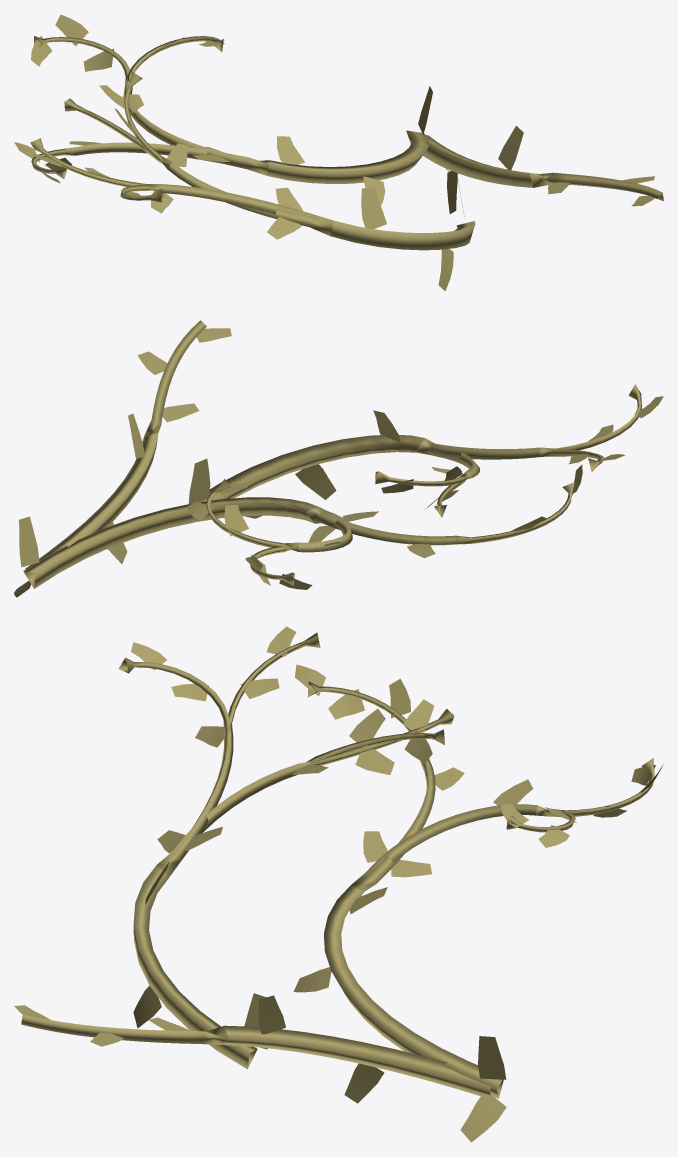
The model's file is cipo 1.fbx.
3 views of the same model, one above another, from view 1: azimuth 30°, elevation 25°; view 2: azimuth 150°, elevation 25°; view 3: azimuth 270°, elevation 25° (orthographic). The views are drawn at different scales.
Parts seen in each view (by area): view 1: polySurface12, polySurface18, polySurface13, polySurface39, polySurface29, polySurface33, polySurface34, polySurface38, polySurface150, polySurface58, polySurface77, polySurface60 (+10 smaller); view 2: polySurface12, polySurface18, polySurface13, polySurface33, polySurface38, polySurface29, polySurface39, polySurface75, polySurface123, polySurface137, polySurface77, polySurface128 (+7 smaller); view 3: polySurface13, polySurface12, polySurface18, polySurface29, polySurface39, polySurface33, polySurface38, polySurface34, polySurface122, polySurface57, polySurface123, polySurface60 (+5 smaller).
Part boxes in pixels (box(x1,y1,x2,y2)): polySurface12: box(267, 130, 429, 183); polySurface18: box(330, 220, 475, 250); polySurface13: box(423, 135, 533, 187); polySurface39: box(123, 81, 269, 175); polySurface29: box(530, 172, 663, 200); polySurface33: box(162, 184, 332, 220); polySurface34: box(167, 162, 333, 235); polySurface38: box(76, 142, 265, 163); polySurface150: box(361, 187, 386, 228); polySurface58: box(30, 138, 160, 186); polySurface77: box(125, 36, 223, 86); polySurface60: box(124, 71, 172, 168); polySurface12: box(23, 497, 318, 588); polySurface18: box(199, 435, 427, 502); polySurface13: box(25, 432, 158, 569); polySurface33: box(416, 438, 540, 459); polySurface38: box(306, 507, 457, 545); polySurface29: box(144, 320, 206, 436); polySurface39: box(298, 507, 352, 552); polySurface75: box(455, 482, 574, 544); polySurface123: box(19, 516, 39, 567); polySurface137: box(295, 464, 336, 499); polySurface77: box(206, 479, 297, 551); polySurface128: box(188, 458, 210, 503); polySurface13: box(223, 1025, 491, 1096); polySurface12: box(324, 885, 503, 1098); polySurface18: box(133, 865, 257, 1069); polySurface29: box(21, 1014, 228, 1044); polySurface39: box(351, 804, 537, 891); polySurface33: box(157, 729, 233, 876); polySurface38: box(351, 759, 435, 891); polySurface34: box(158, 763, 300, 863); polySurface122: box(460, 1093, 506, 1142); polySurface57: box(118, 657, 229, 735); polySurface123: box(478, 1036, 506, 1079); polySurface60: box(301, 729, 444, 763).
Bounding box in the file's own units: 105 × 37.14 × 92.95.
